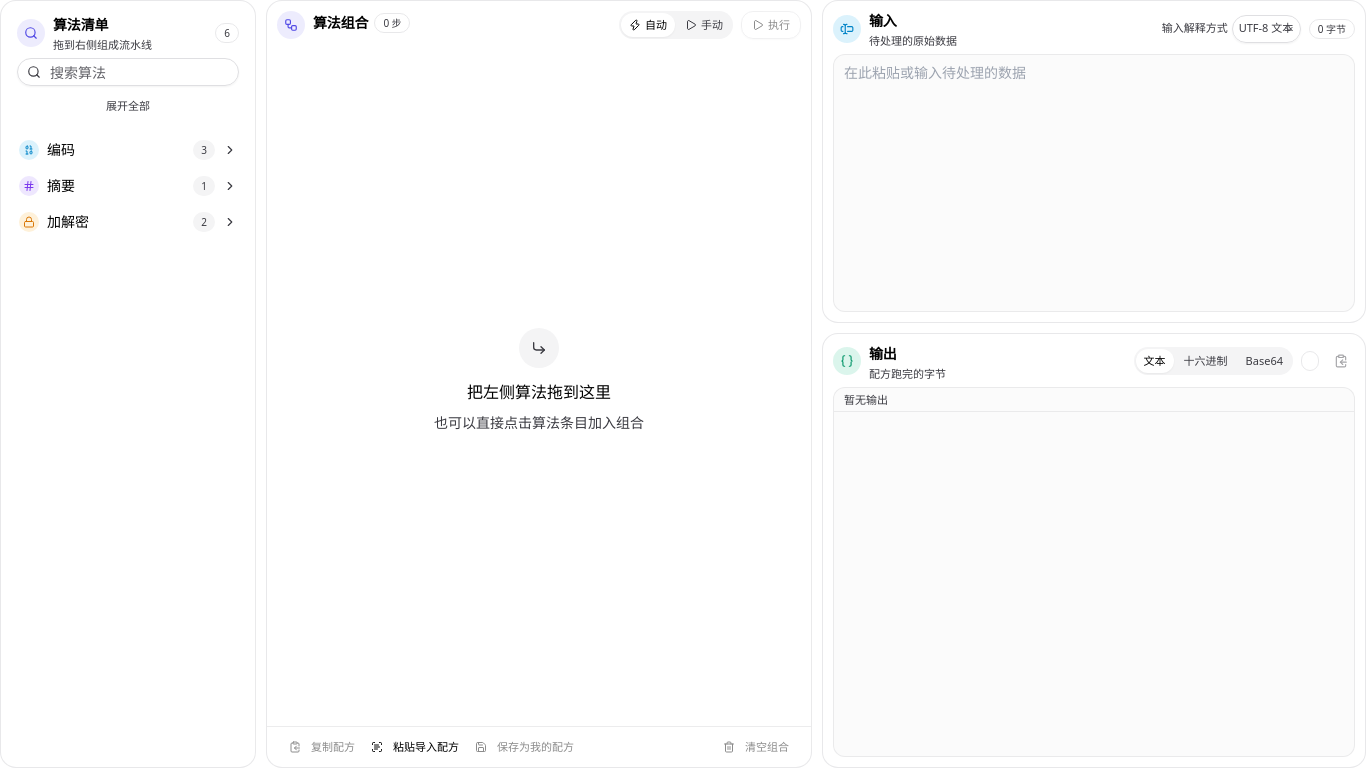
配方编排 › 复制/粘贴配方走剪贴板，未知算法会被忽略并报数量
The width and height of the screenshot is (1366, 768).
Click the button "展开全部" at coordinates (128, 106), box top-left (17, 94), bottom-right (239, 118)
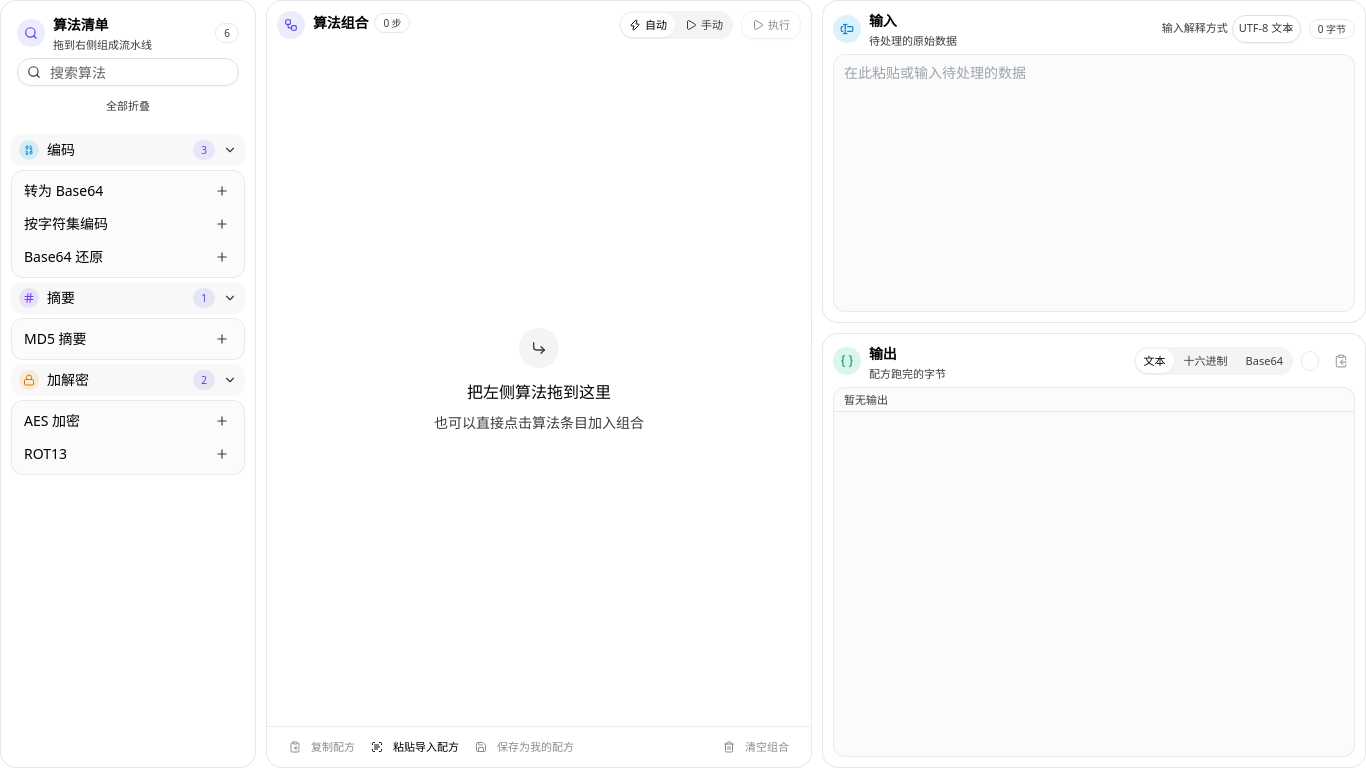
Click the button named "MD5 摘要" at coordinates (222, 339), box top-left (212, 329), bottom-right (232, 349)
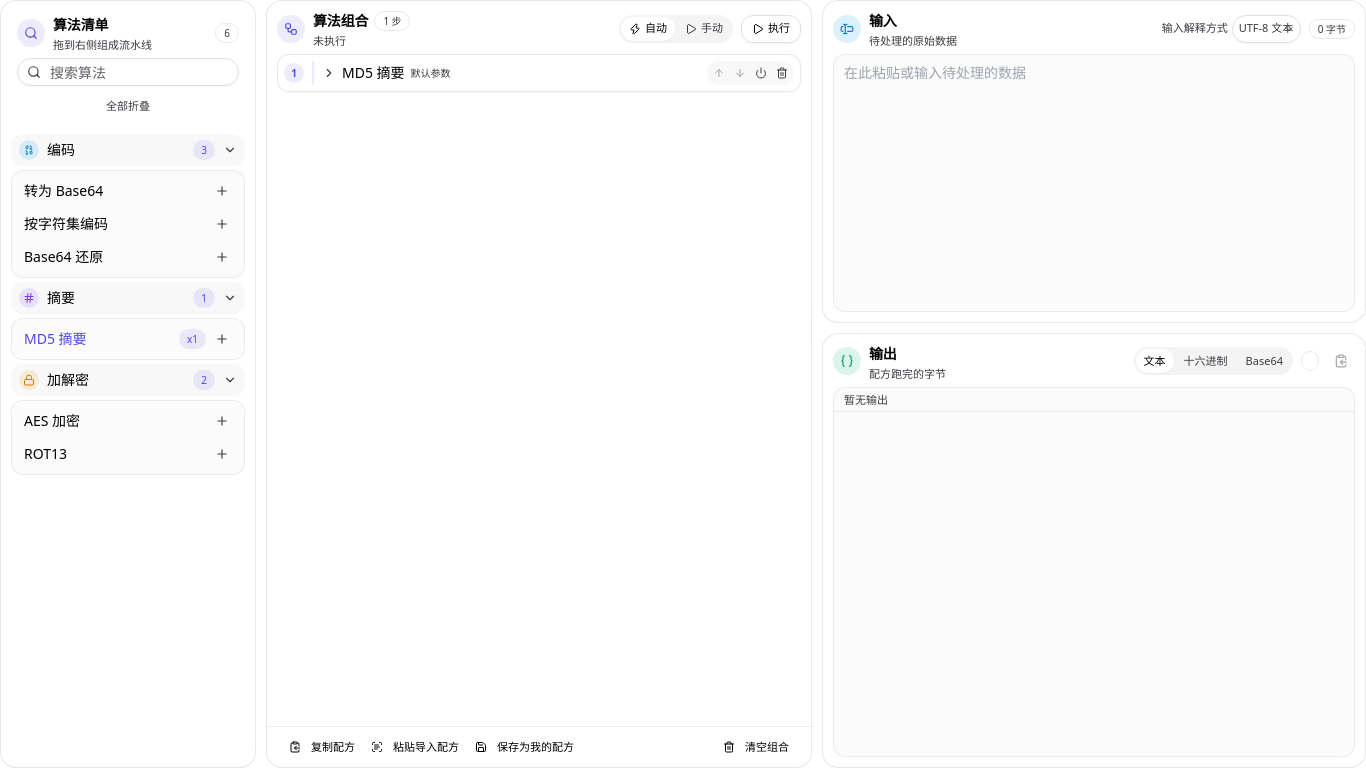
Check: the number of list items with test id "chef-step" is 1, box top-left (277, 54), bottom-right (801, 92)
Click the button "复制配方" at coordinates (322, 747), box top-left (283, 735), bottom-right (361, 759)
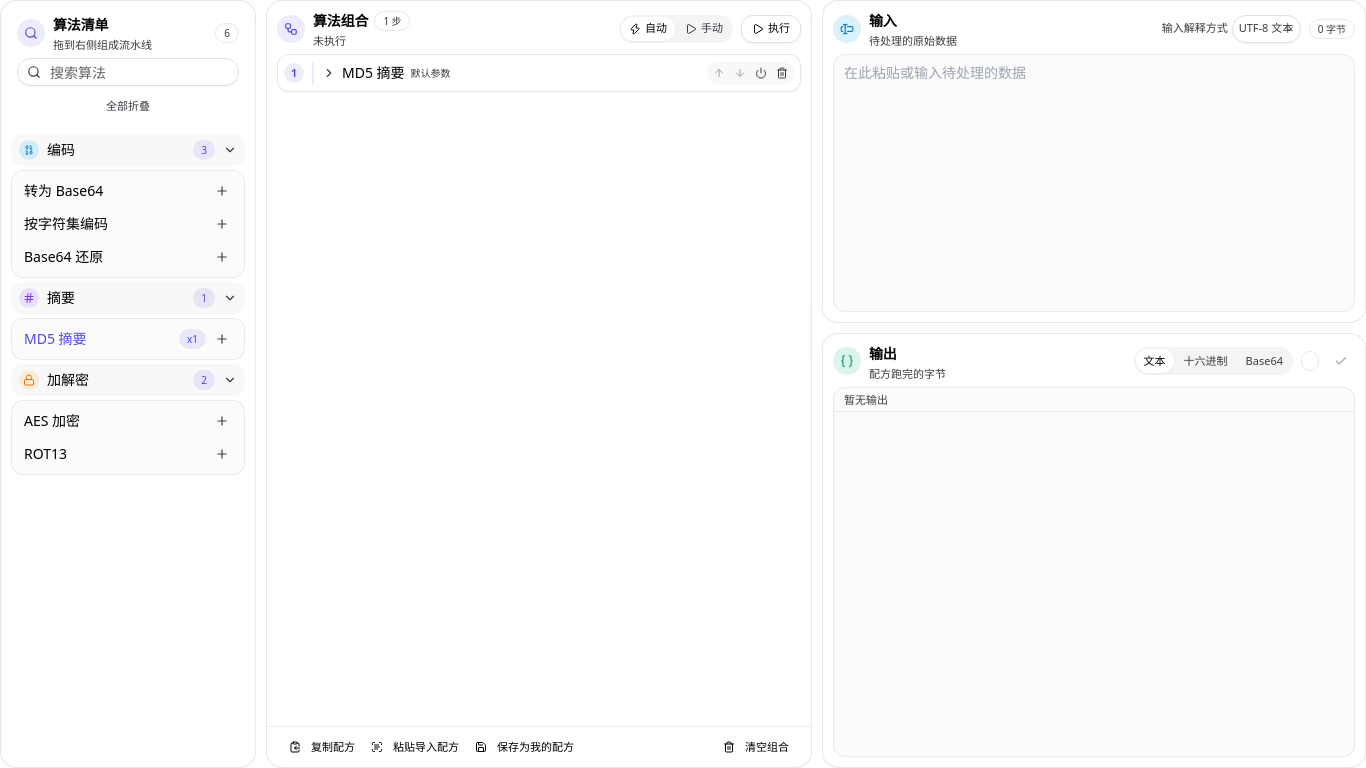
Click the button "粘贴导入配方" at coordinates (415, 747), box top-left (365, 735), bottom-right (465, 759)
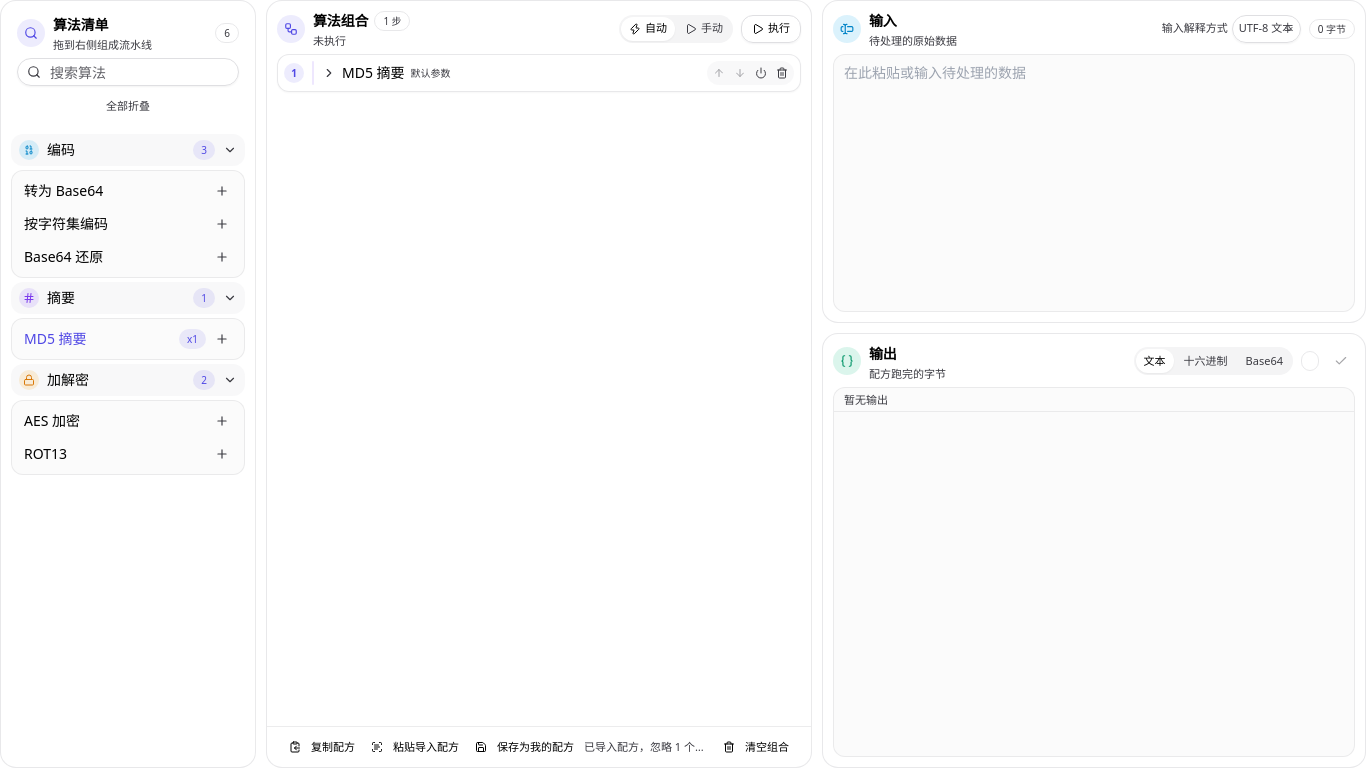
Check: the number of list items with test id "chef-step" is 1, box top-left (277, 54), bottom-right (801, 92)
Check: the list item with test id "chef-step" shows "MD5 摘要", box top-left (322, 61), bottom-right (631, 85)
Check: the text "已导入配方，忽略 1 个未知算法" is shown, box top-left (584, 739), bottom-right (713, 755)
